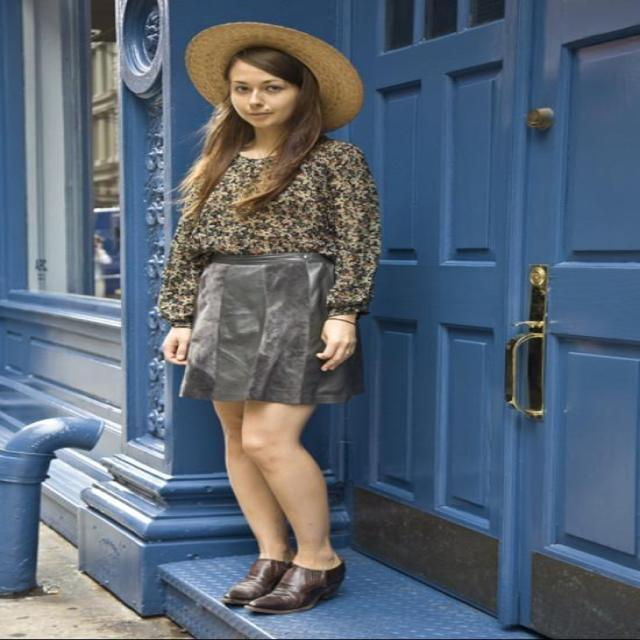Tshirt: (157, 136, 381, 326)
skirt: (178, 251, 368, 405)
